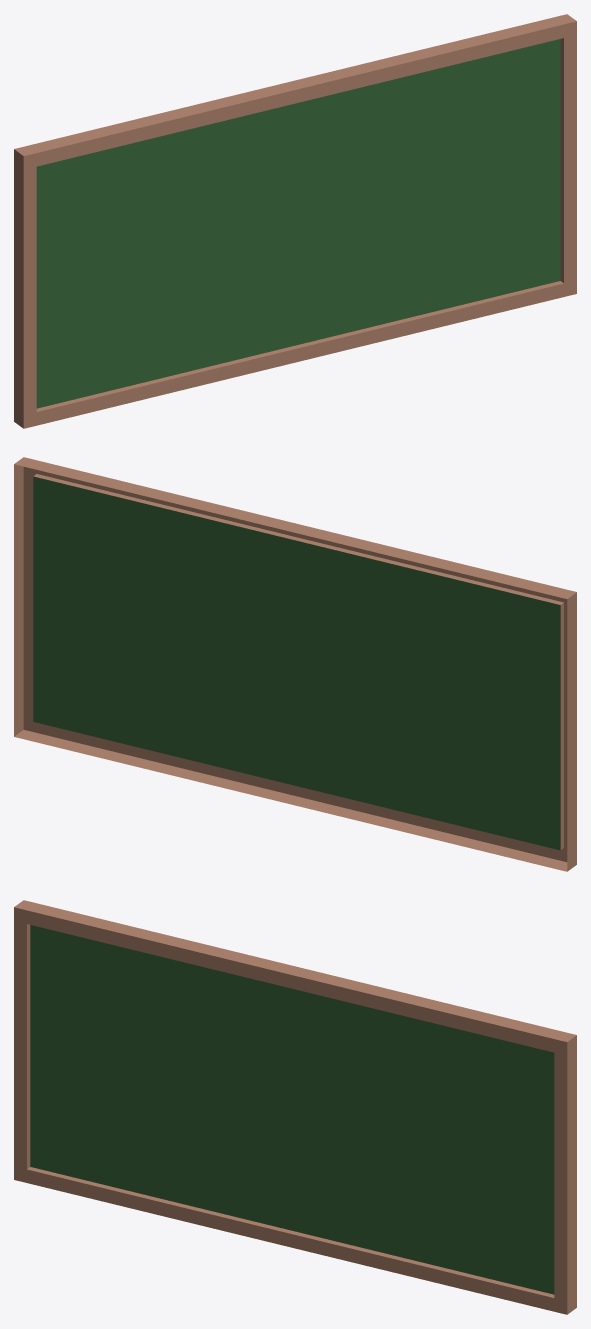
Rendered from Blackboard.fbx.
3 views of the same model, one above another, from view 1: azimuth 30°, elevation 25°; view 2: azimuth 150°, elevation 25°; view 3: azimuth 330°, elevation 25° (orthographic).
Visible parts, largest first — view 1: Blackbaord; view 2: Blackbaord; view 3: Blackbaord.
Boxes of the visible parts, <box> form: Blackbaord: <box>14,14,576,428</box>; Blackbaord: <box>14,457,576,871</box>; Blackbaord: <box>14,900,576,1314</box>.
Bounding box in the file's own units: 485 × 228 × 14.83.
